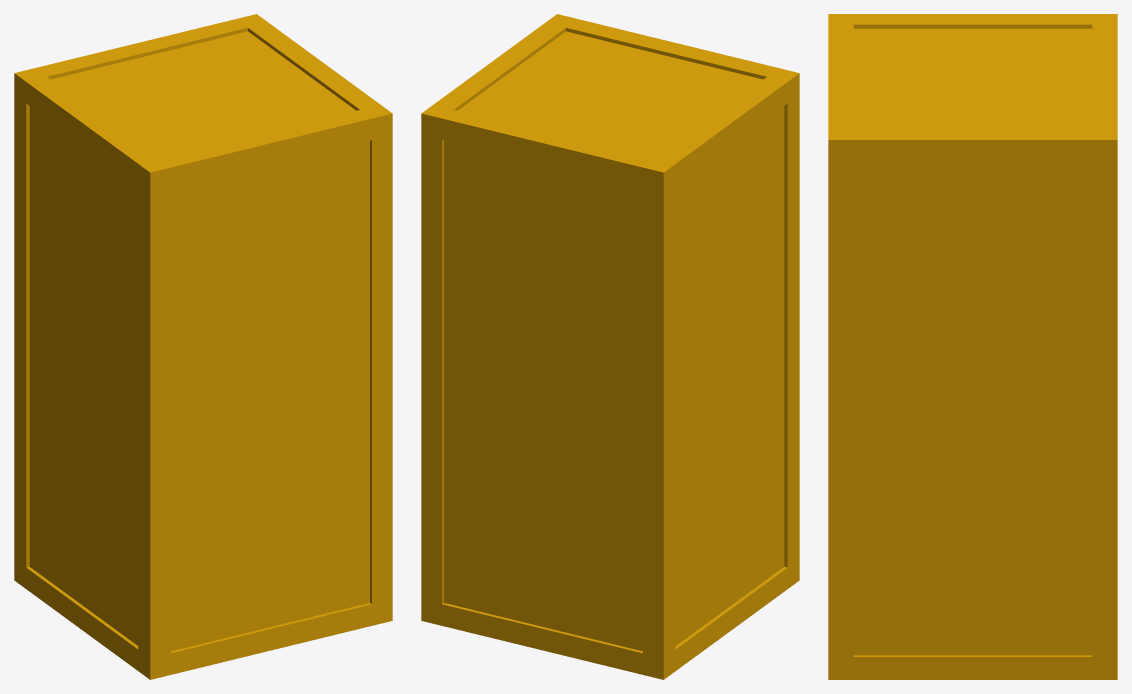
Rendered from box_iron.FBX.
The picture shows the model from 3 angles, left to right: view 1: azimuth 30°, elevation 25°; view 2: azimuth 150°, elevation 25°; view 3: azimuth 270°, elevation 25°; orthographic projection. The views are drawn at different scales.
Parts seen in each view (by area): view 1: box_iron; view 2: box_iron; view 3: box_iron.
Boxes of the visible parts, bbox=[...] form: box_iron: bbox=[14, 14, 392, 679]; box_iron: bbox=[421, 14, 799, 679]; box_iron: bbox=[828, 14, 1117, 679].
Size of the model in its own units: 84 by 81.6 by 168.
